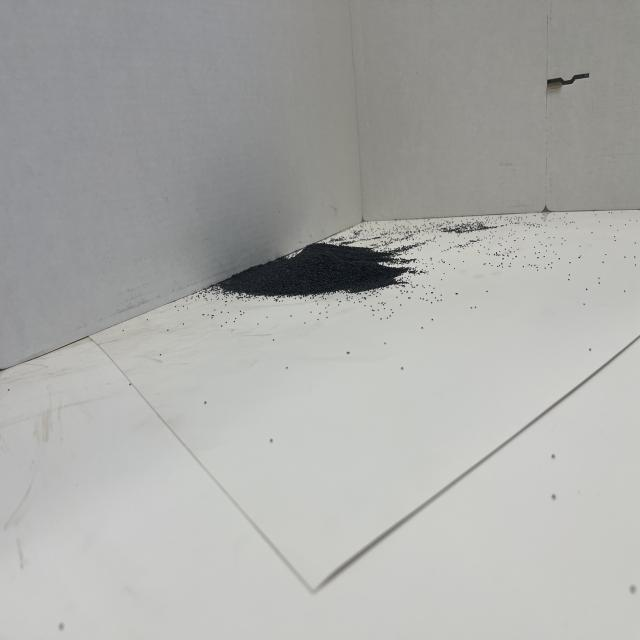Poppy Seeds: (233, 240, 402, 328)
